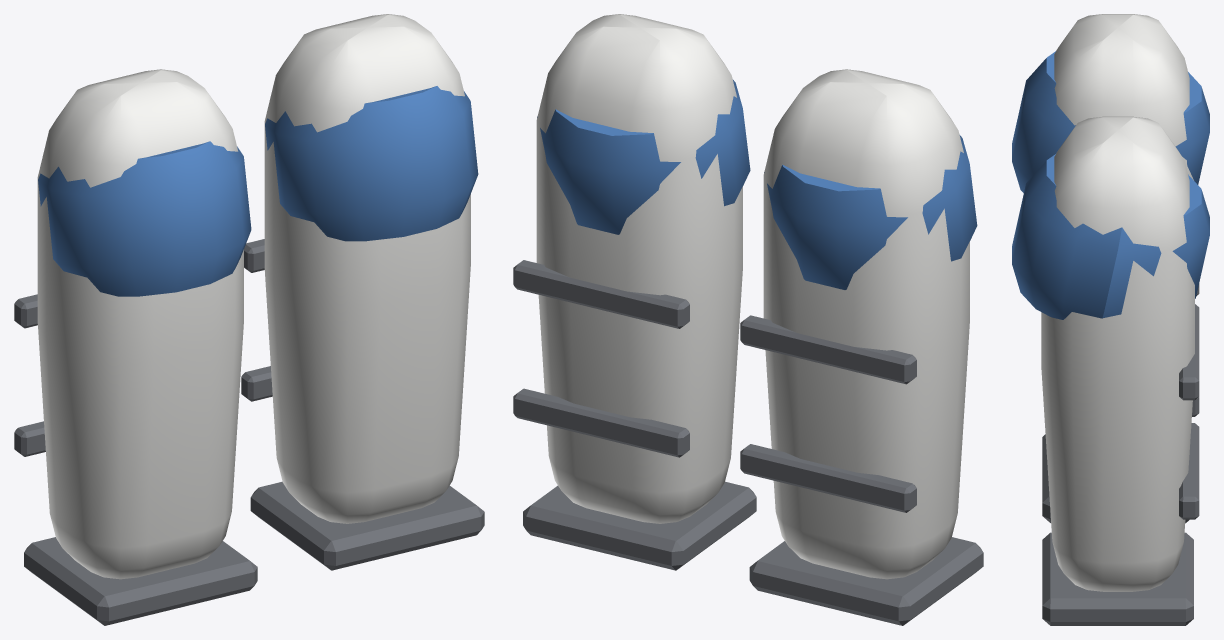
File: ice-hockey-arena-and-locker-room-shin-guards-0fd9a962__33730.glb
The picture shows the model from 3 angles, left to right: view 1: azimuth 30°, elevation 25°; view 2: azimuth 150°, elevation 25°; view 3: azimuth 270°, elevation 25°; orthographic projection. The views are drawn at different scales.
Parts seen in each view (by area): view 1: shin-guards; view 2: shin-guards; view 3: shin-guards.
Boxes of the visible parts, bbox=[...] form: shin-guards: bbox=[14, 14, 484, 625]; shin-guards: bbox=[513, 14, 983, 625]; shin-guards: bbox=[1012, 14, 1209, 625].
Bounding box in the file's own units: 0.43 × 0.504 × 0.1954.
